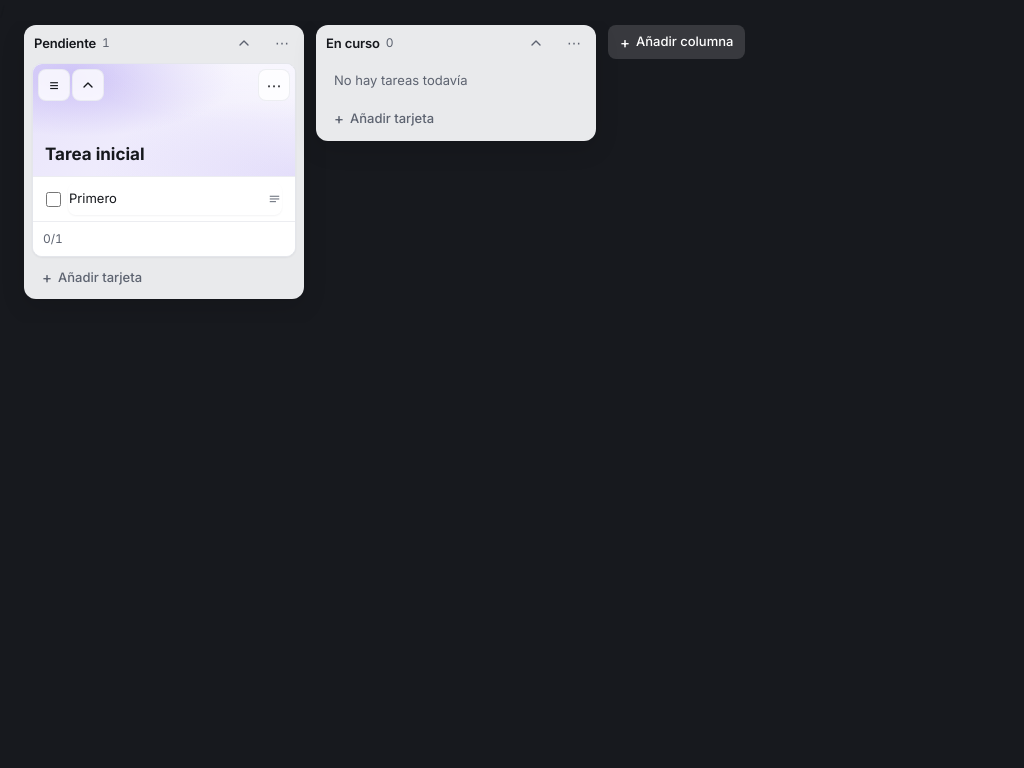
Scenario: Tablero › pulsar el texto abre el diálogo y no marca ni navega
Click the button with aria-label "Abrir «Primero»".
click(175, 199)  # box [68, 183, 282, 215]
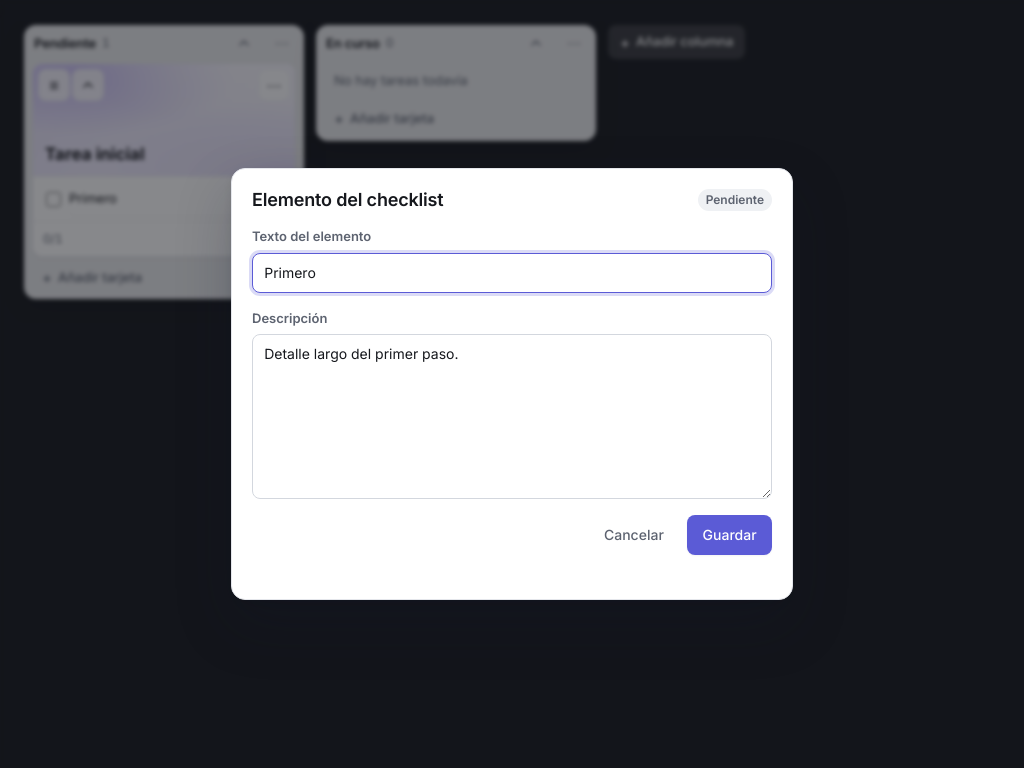
Expected: the dialog "Elemento del checklist" is shown, [231, 168, 793, 600]
Expected: the text box labelled "Descripción" holds "Detalle largo del primer paso.", [252, 334, 772, 499]
